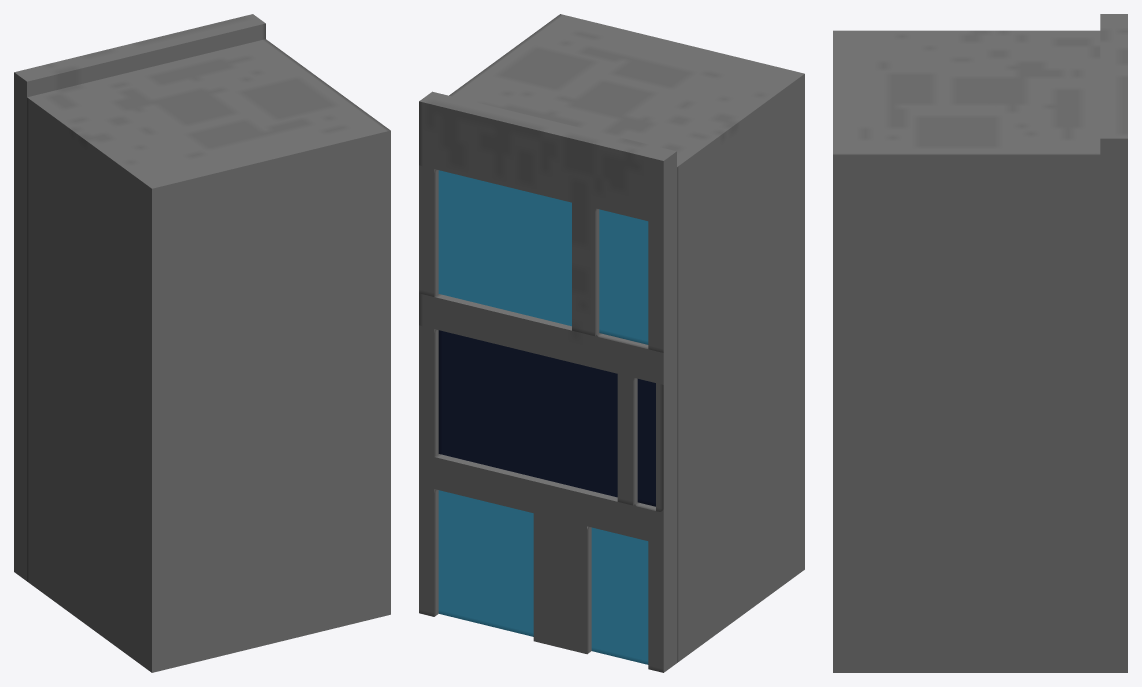
The model's file is B_M_GÓRA_SRODEK_INNY.dae.
The picture shows the model from 3 angles, left to right: view 1: azimuth 30°, elevation 25°; view 2: azimuth 150°, elevation 25°; view 3: azimuth 270°, elevation 25°; orthographic projection. The views are drawn at different scales.
Visible parts, largest first — view 1: Content; view 2: Content; view 3: Content.
Part boxes in pixels (left/top/right/bottom): Content: left=14, top=14, right=390, bottom=672; Content: left=419, top=14, right=804, bottom=672; Content: left=833, top=14, right=1127, bottom=672.
Bounding box in the file's own units: 32 × 64 × 32.
1 material, 1 textured.
